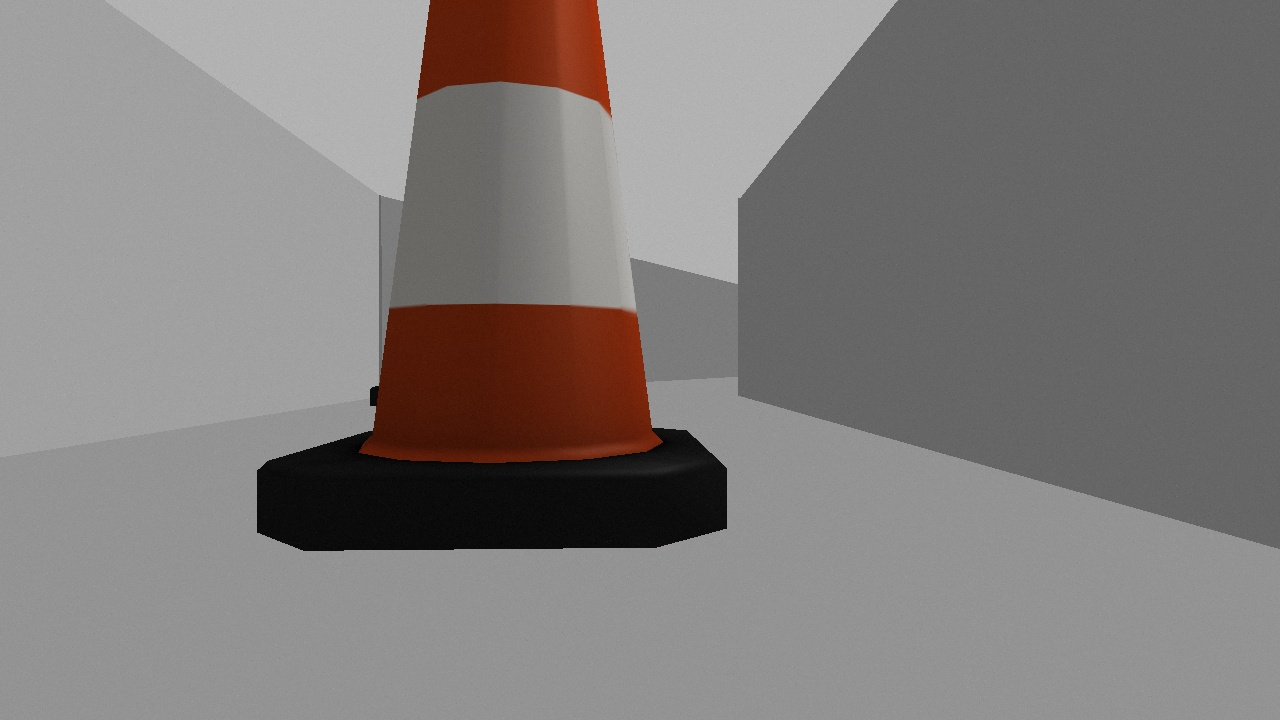barricade: (234, 1, 748, 577)
